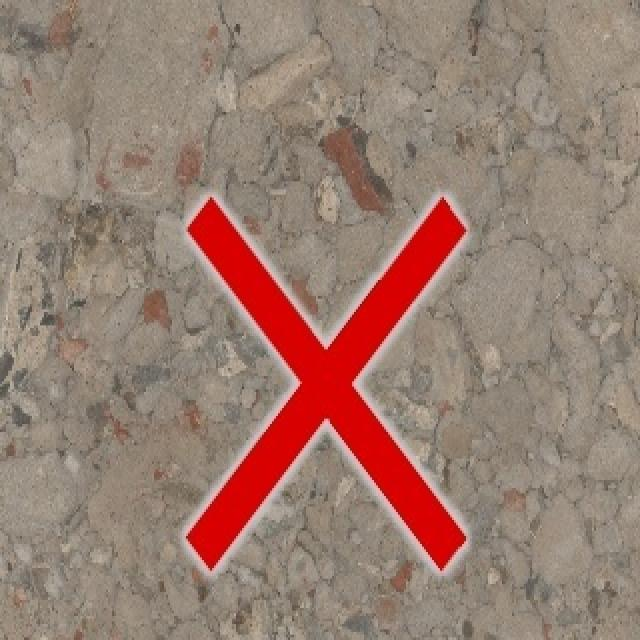x_marker: (185, 196, 465, 569)
